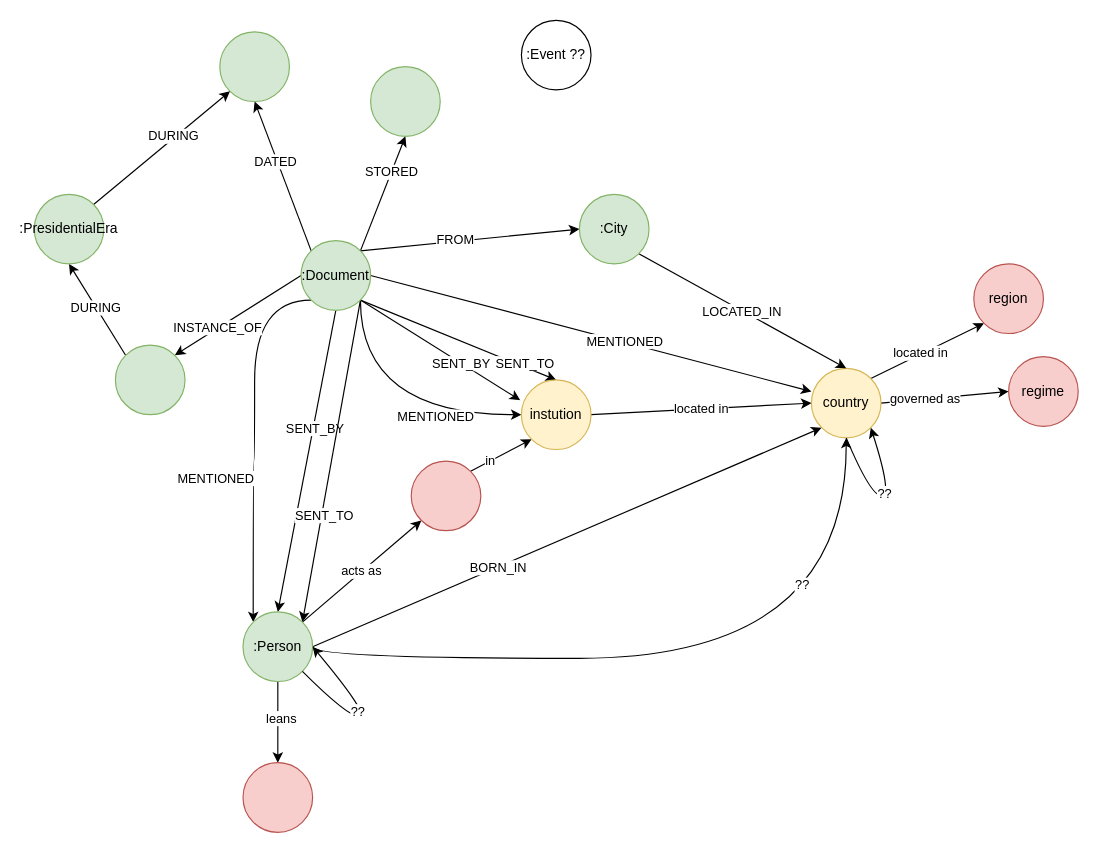
Some shapes in this 1099 by 853 pixel diagram are drawn without their labels. The box of each missing label's shape, as (x1, y1, x2, y2) in pixels:
:Source: (369, 66, 440, 136)
:Volume: (114, 344, 185, 415)
:Year: (219, 31, 289, 102)
political view: (242, 762, 313, 832)
role: (410, 460, 481, 531)
